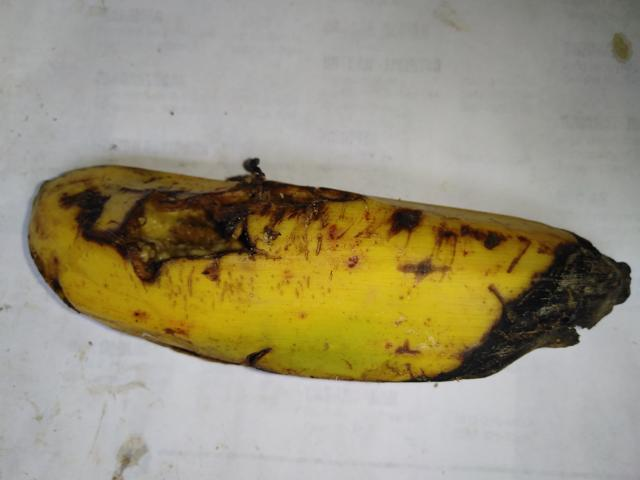ripe: (17, 136, 464, 408)
rotten: (71, 111, 365, 285), (439, 189, 635, 425)
